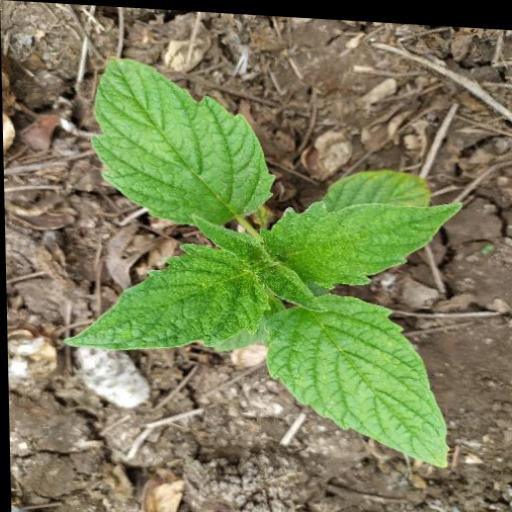crop: (53, 35, 468, 476)
